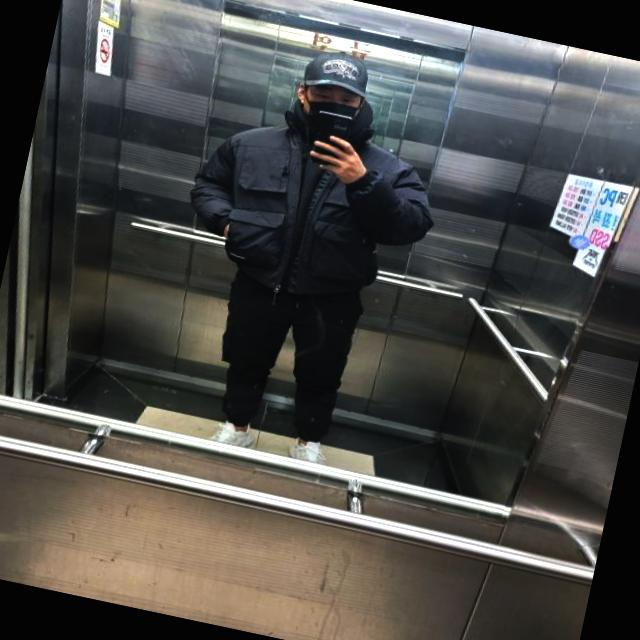cottonpants: (176, 110, 445, 324)
trainingpants: (200, 271, 366, 448)
